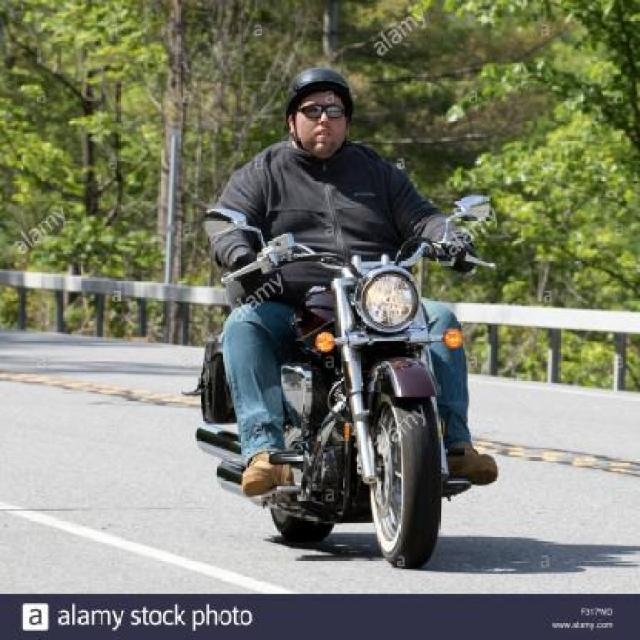helmet: (268, 55, 360, 165)
motorcycle: (157, 52, 521, 571)
